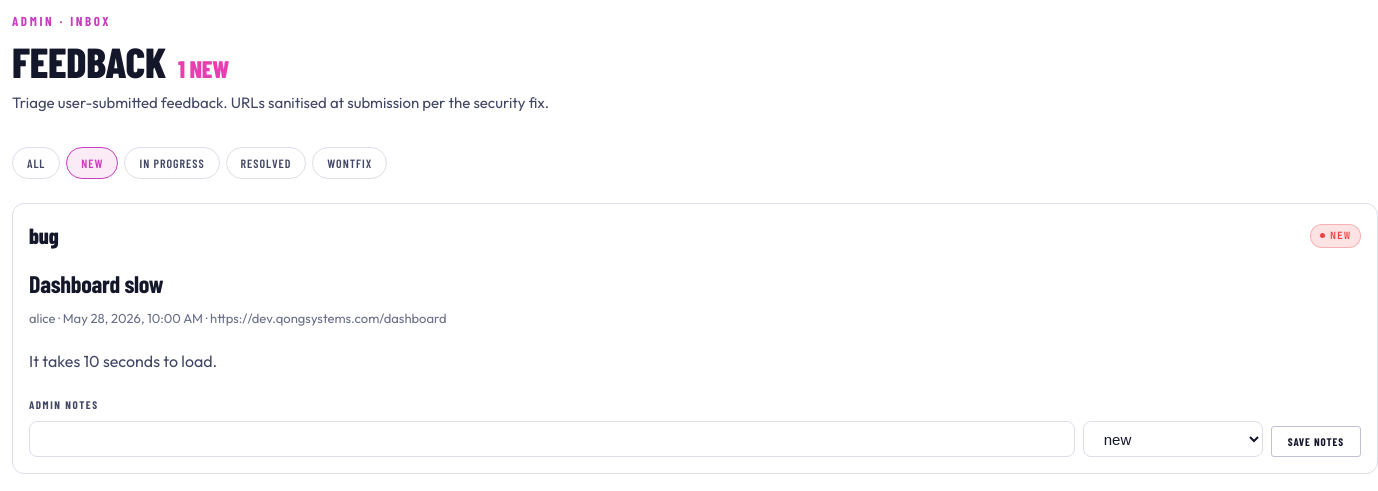
Scenario: AdminFeedback › re-fetches when filter changes
Expected: the element with test id "feedback-item-1" is shown, [12,203,1377,474]
Click the button with test id "feedback-filter-resolved". click: (266, 163)
box: [226,147,306,179]
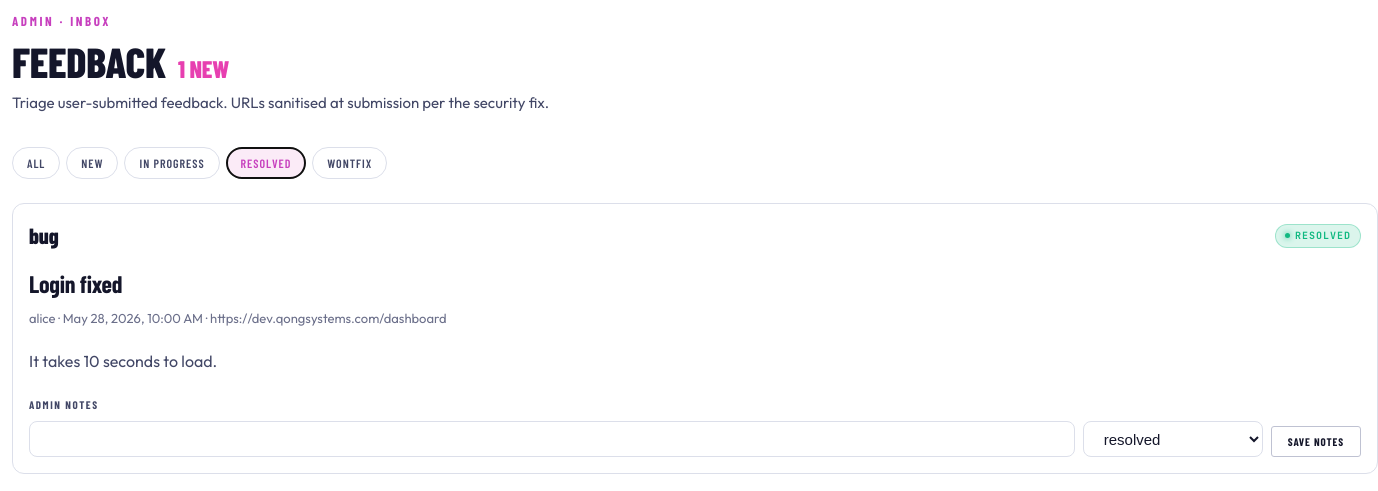
Expected: the heading "Login fixed" is shown, [29,269,122,298]
